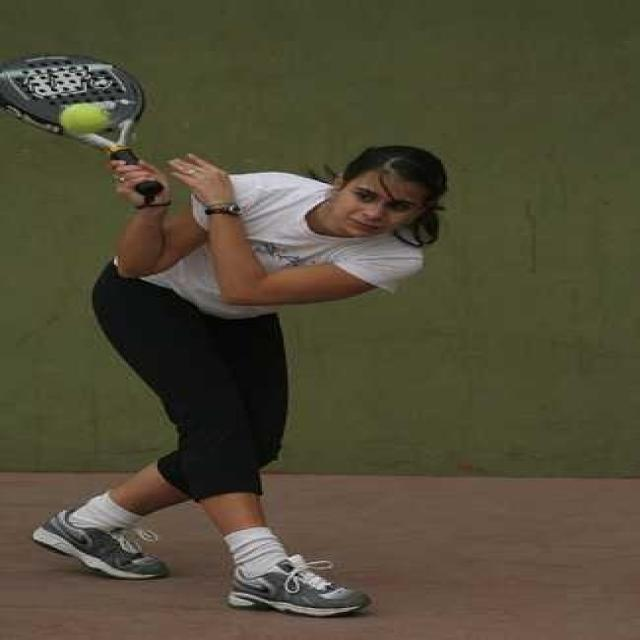Tennis_Ball: (62, 102, 108, 132)
